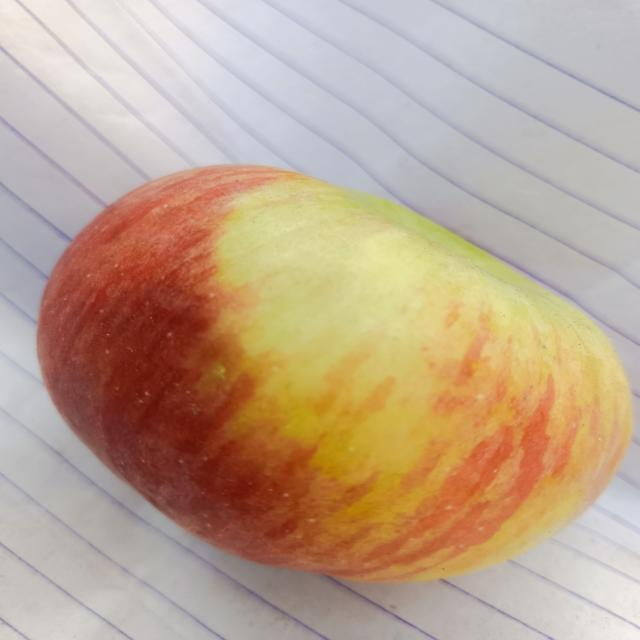Fresh Apple: (57, 180, 625, 573)
